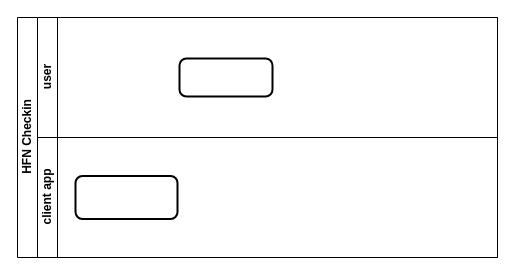
Some shapes in this 515 by 275 pixel diagram are drawn without their labels. Here are the shapes that lost their labels. From the top down, the centre of each, then its label:
point (225, 77): user clicks on "Select Event"
point (126, 197): on mount, the events are fetched from the server
